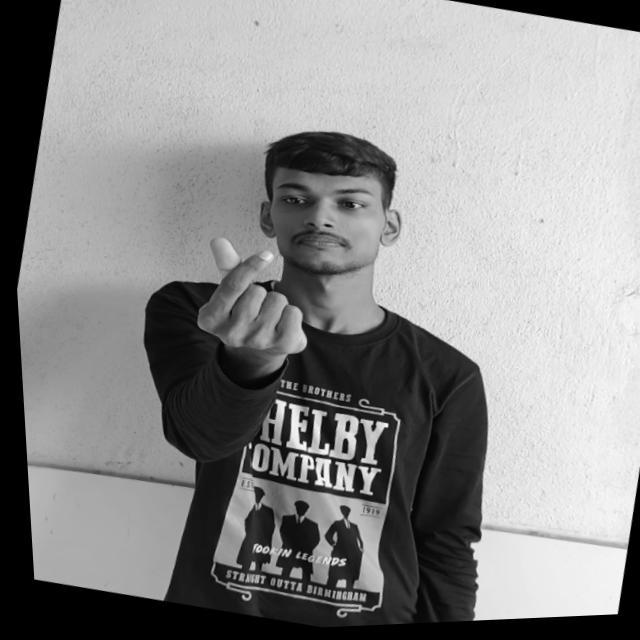Grattitude: (173, 229, 322, 367)
